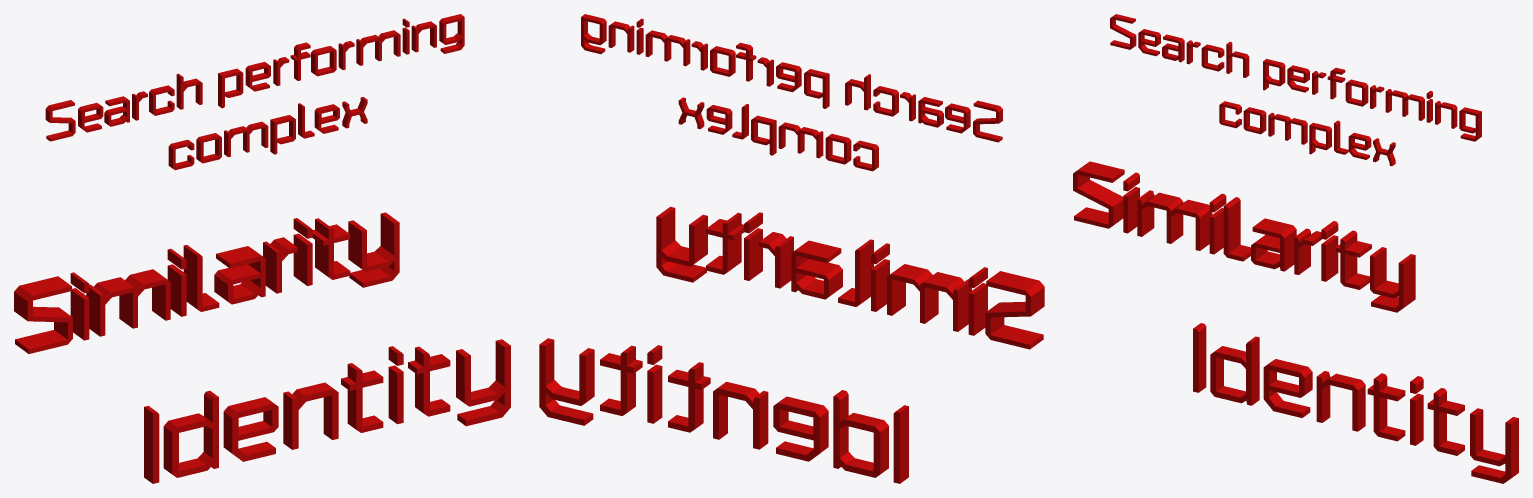
Rendered from buzzwords_capital_letters_nov_24.fbx.
The picture shows the model from 3 angles, left to right: view 1: azimuth 30°, elevation 25°; view 2: azimuth 150°, elevation 25°; view 3: azimuth 330°, elevation 25°; orthographic projection. The views are drawn at different scales.
Visible parts, largest first — view 1: similarity, identity, search_performing_complex; view 2: similarity, identity, search_performing_complex; view 3: similarity, identity, search_performing_complex.
Boxes of the visible parts, x1,y1,x2,y2 form: similarity: (14,212,399,353); identity: (144,339,510,483); search_performing_complex: (45,14,464,170); similarity: (656,206,1044,349); identity: (539,338,908,483); search_performing_complex: (581,14,1002,171); similarity: (1073,161,1415,312); identity: (1193,323,1518,483); search_performing_complex: (1110,14,1481,166).
Size of the model in its own units: 51.19 by 41.51 by 2.5.
